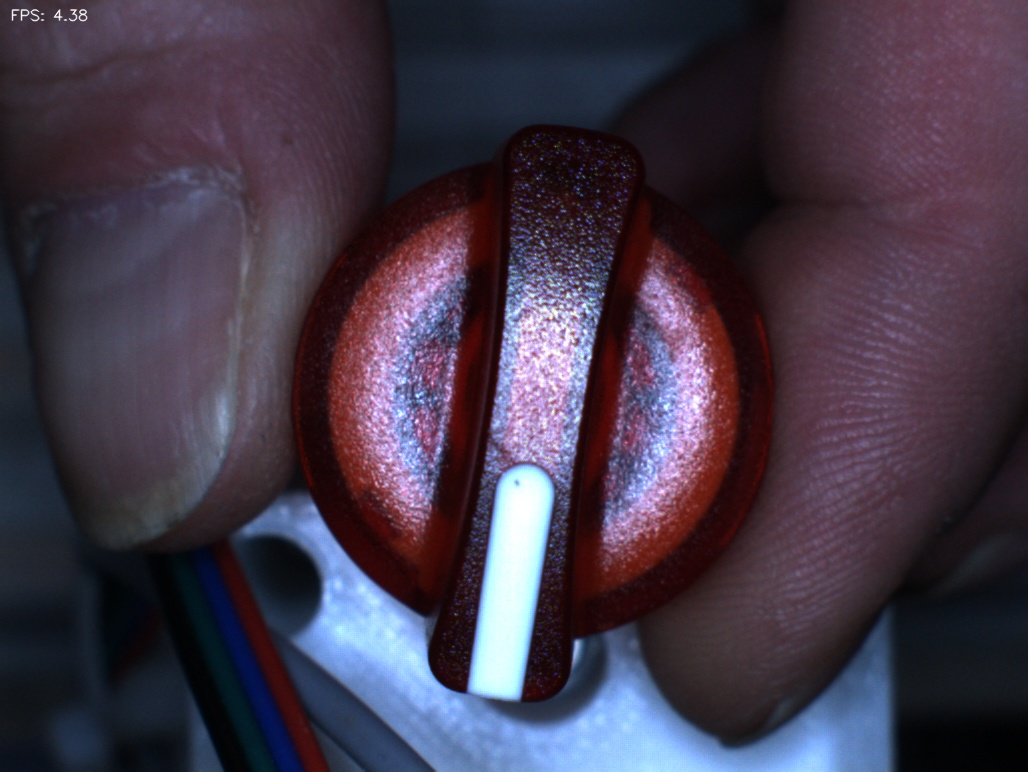PointNoir: (480, 454, 552, 517)
